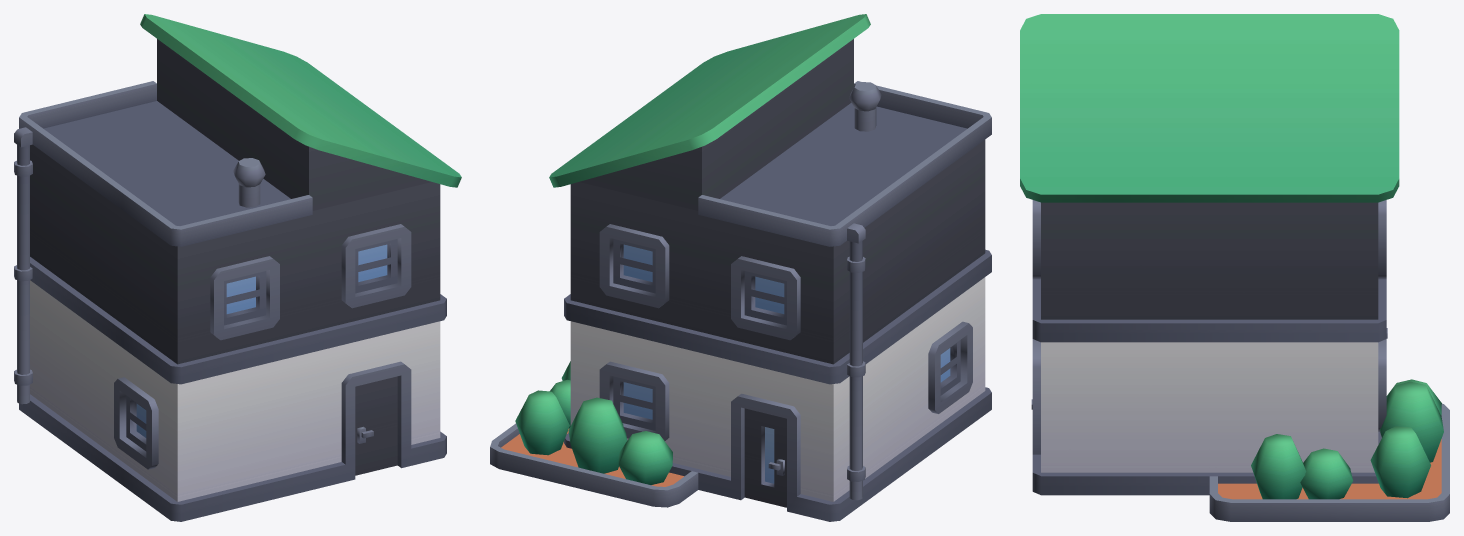
Rendered from house-l.glb.
The picture shows the model from 3 angles, left to right: view 1: azimuth 30°, elevation 25°; view 2: azimuth 150°, elevation 25°; view 3: azimuth 270°, elevation 25°; orthographic projection. The views are drawn at different scales.
Visible parts, largest first — view 1: building-type-l; view 2: building-type-l; view 3: building-type-l.
Part boxes in pixels (x1,y1,x2,y2): building-type-l: (14, 14, 461, 521); building-type-l: (490, 14, 991, 521); building-type-l: (1020, 14, 1449, 521).
Bounding box in the file's own units: 1.03 × 1.05 × 1.02.
Materials: 1 (1 with a texture image).
